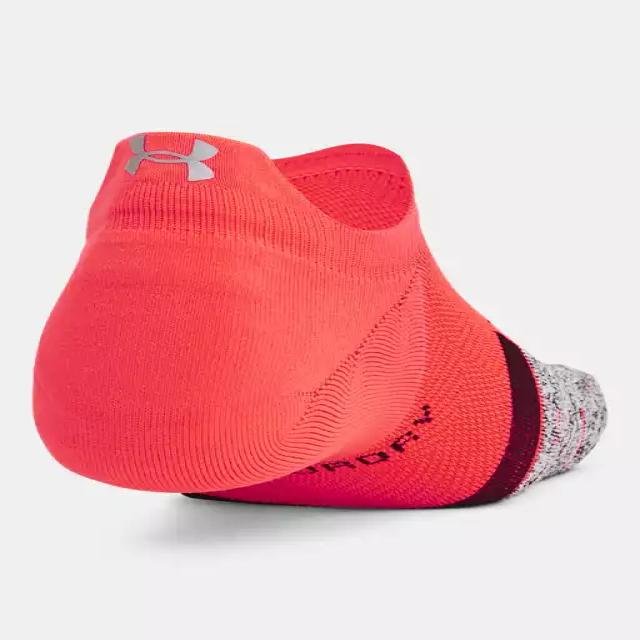sock: (31, 130, 608, 509)
